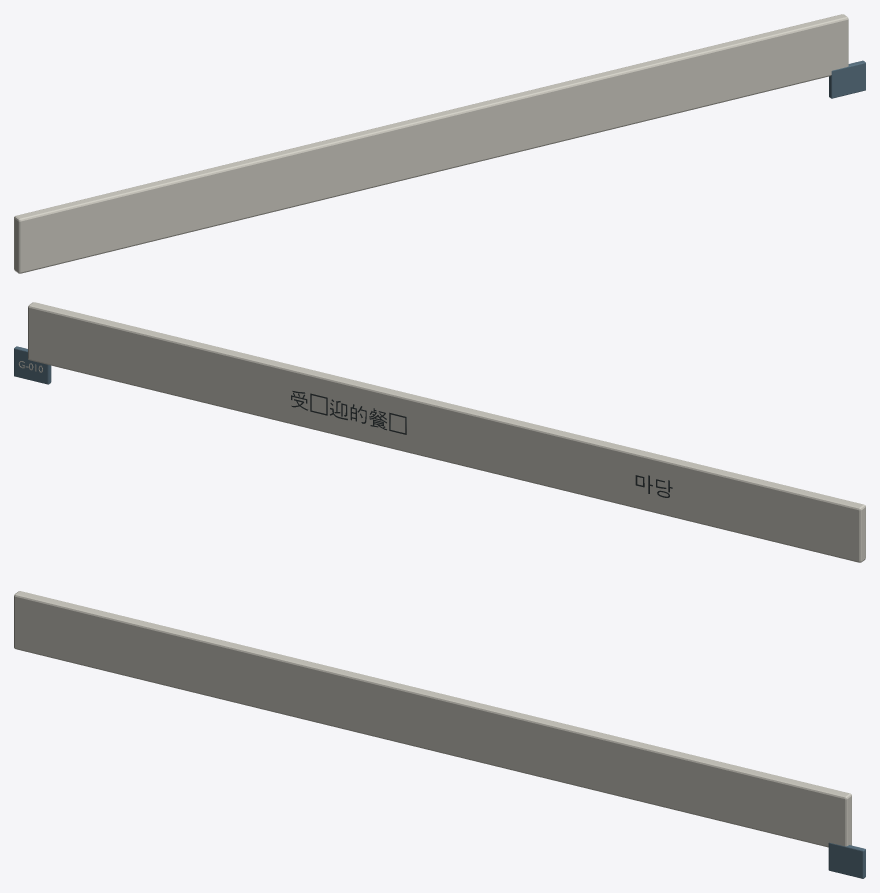
File: front.glb
The picture shows the model from 3 angles, top to bottom: view 1: azimuth 30°, elevation 25°; view 2: azimuth 150°, elevation 25°; view 3: azimuth 330°, elevation 25°; orthographic projection.
Visible parts, largest first — view 1: G010_front; view 2: G010_front; view 3: G010_front.
Part boxes in pixels (bbox=[...]): G010_front: bbox=[14, 14, 865, 273]; G010_front: bbox=[14, 302, 865, 562]; G010_front: bbox=[14, 591, 865, 878].
Bounding box in the file's own units: 5.29 × 0.4621 × 0.0737.
